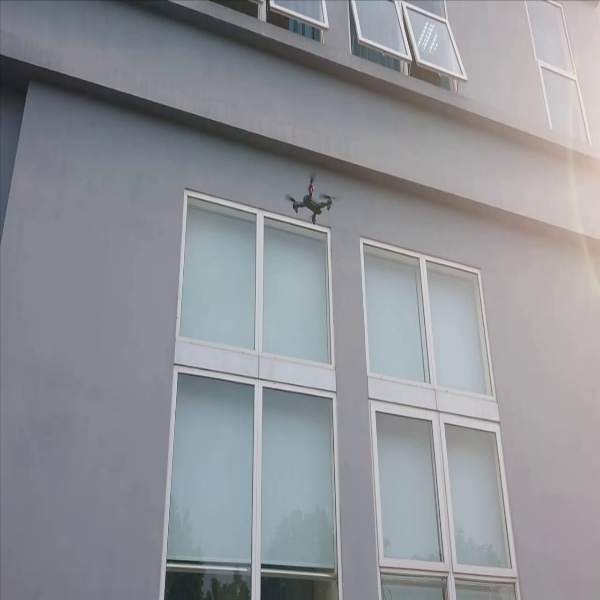drone: (281, 168, 338, 234)
